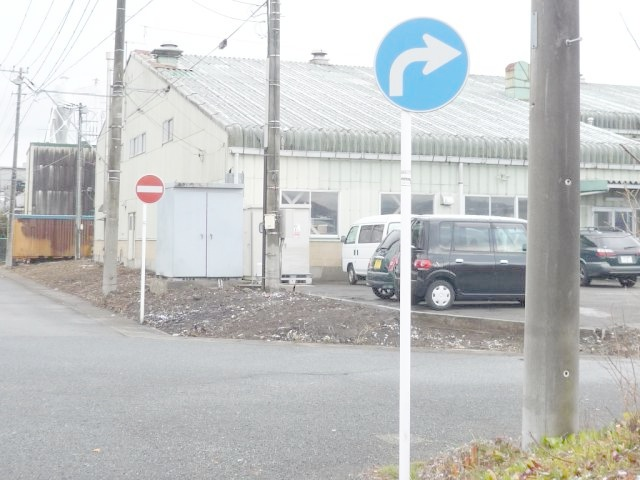Direction_sign: (370, 11, 478, 118)
